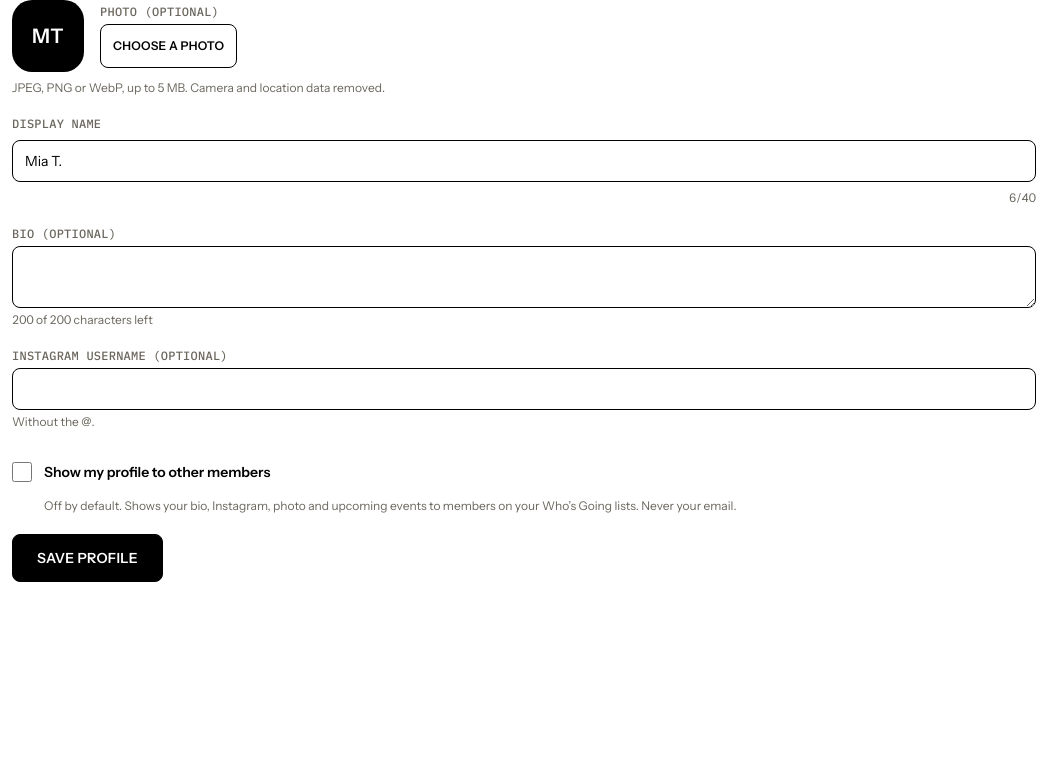
Scenario: member profile settings (/account) › sends only what changed: visibility, bio, and a handle (a pasted link reduced to the name)
Click the checkbox labelled "Show my profile to other members": (22, 472) 12,462 -> 32,482
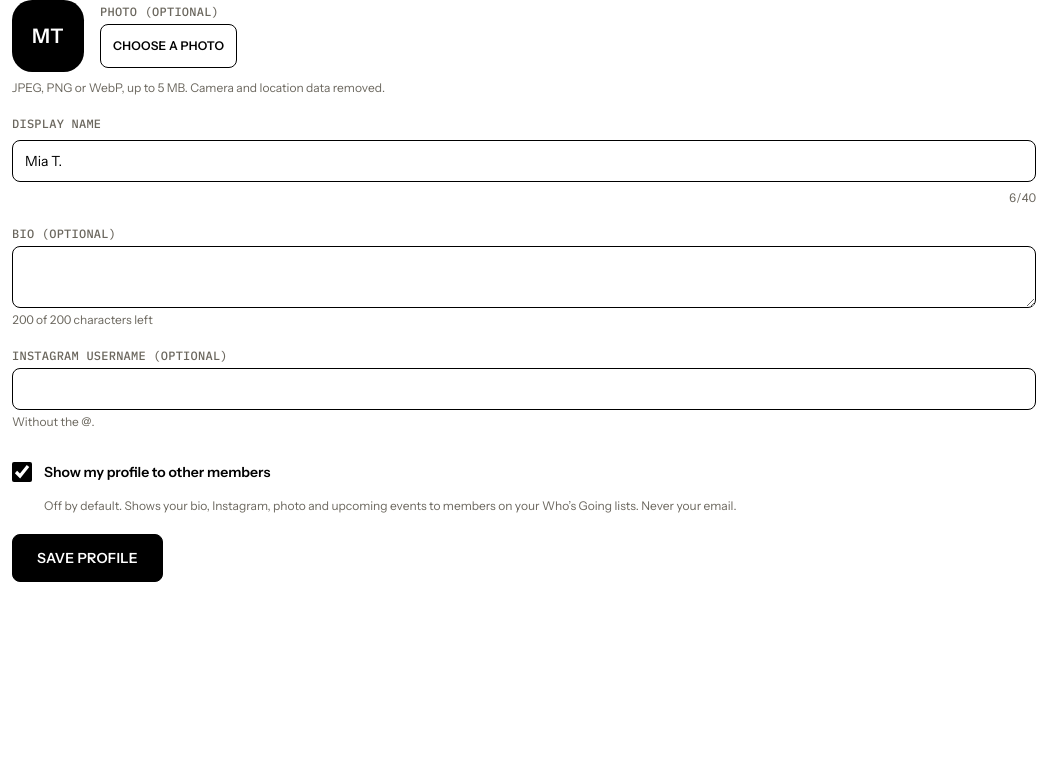
In the text box labelled "Bio (optional)": (524, 277) 12,246 -> 1036,308, type "  Hi  "
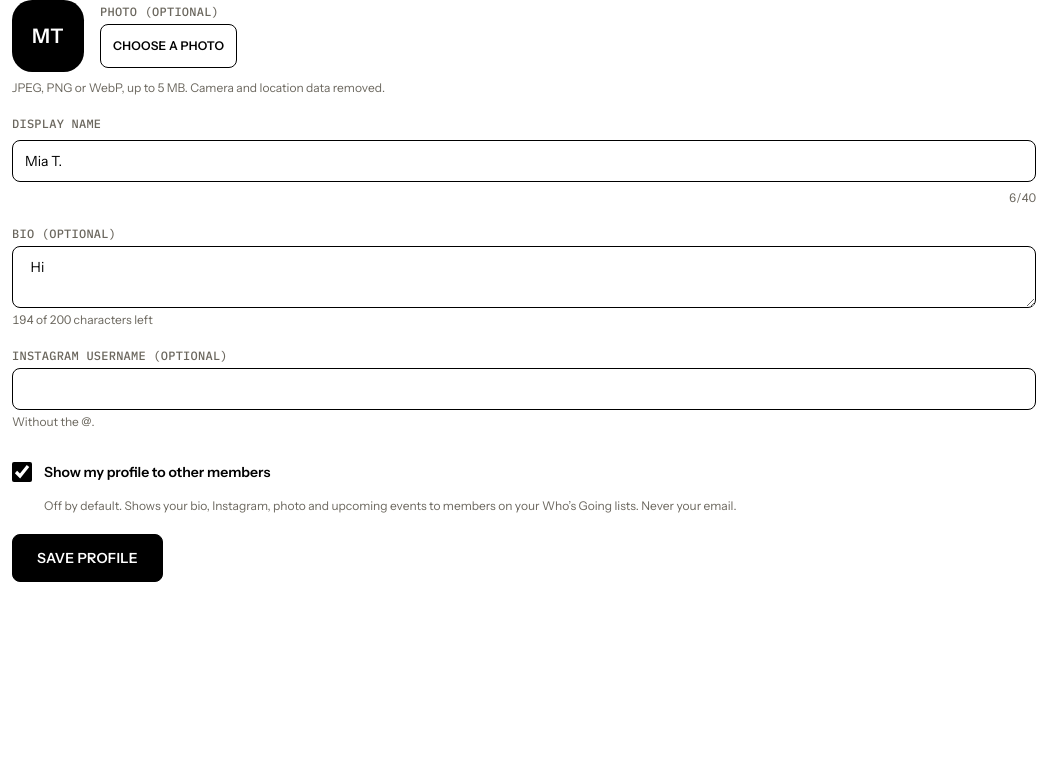
In the field labelled "Instagram username (optional)": (524, 389) 12,368 -> 1036,410, type "https://www.instagram.com/mia.t/"
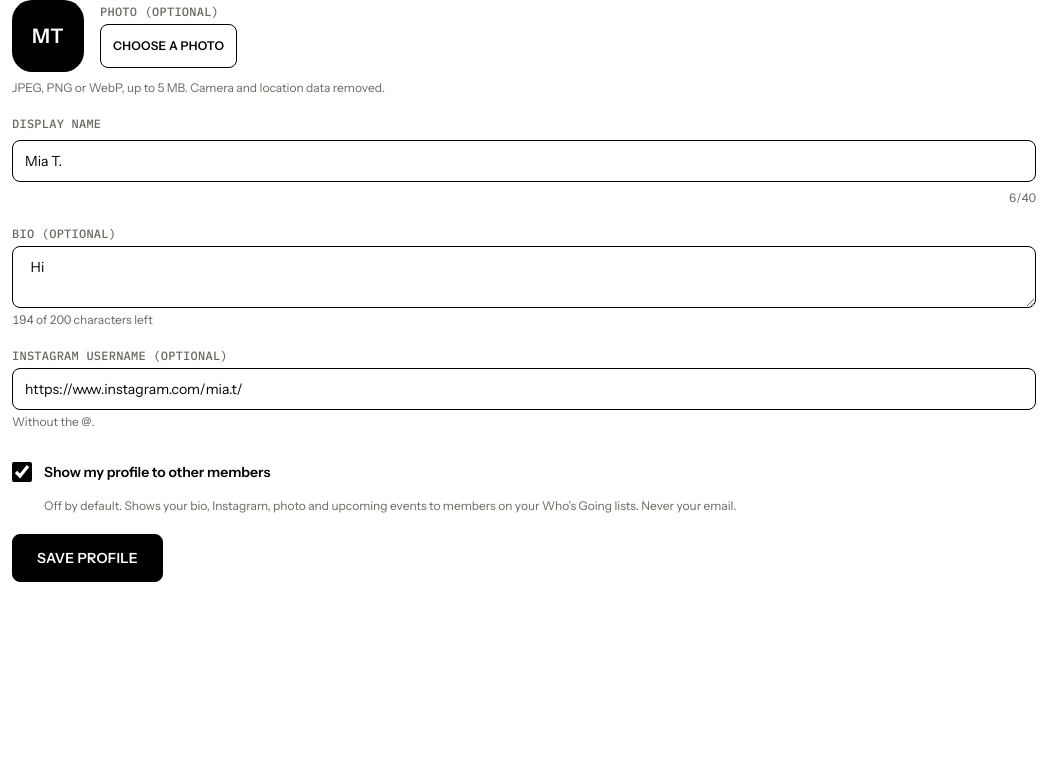
Click the button "Save profile": (87, 558) 12,534 -> 163,582
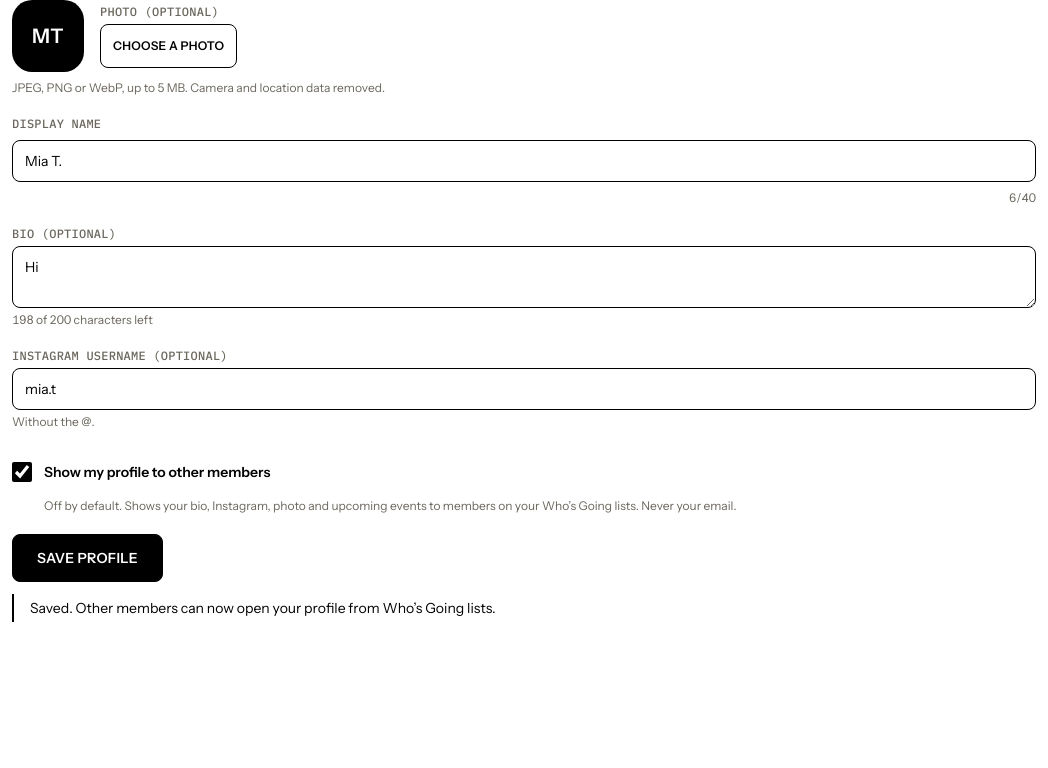
Expected: the text "Other members can now open your profile" is shown, 30,599 -> 496,617
